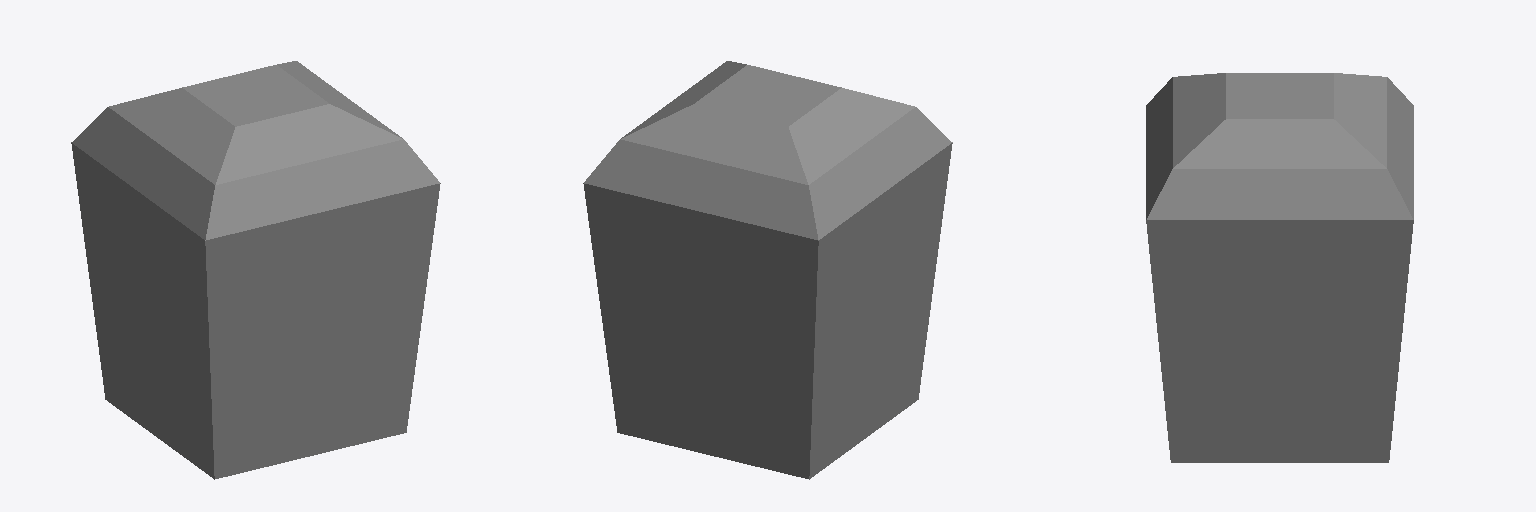
File: palomitas.obj
3 renders of one model, left to right at view 1: azimuth 30°, elevation 25°; view 2: azimuth 150°, elevation 25°; view 3: azimuth 270°, elevation 25°, orthographic.
Parts seen in each view (by area): view 1: palomitas; view 2: palomitas; view 3: palomitas.
Boxes of the visible parts, box(x1,y1,x2,y2) form: palomitas: box(71, 61, 440, 479); palomitas: box(583, 61, 952, 479); palomitas: box(1146, 73, 1413, 462).
Bounding box in the file's own units: 21.46 × 27.93 × 21.15.